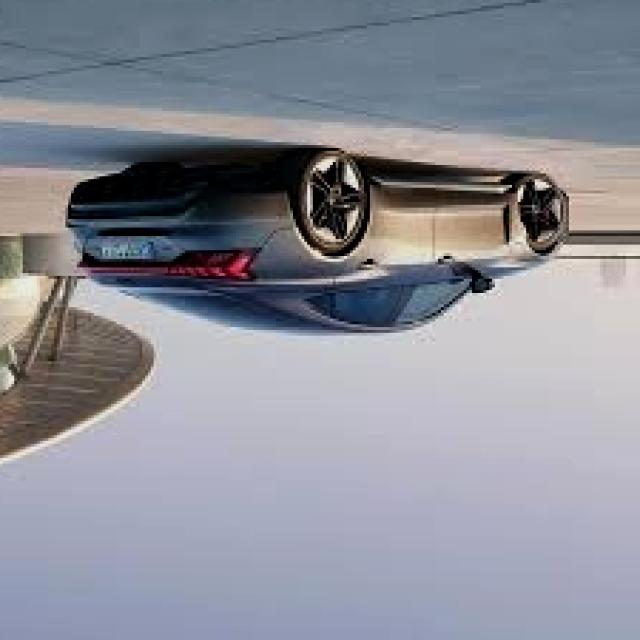black: (66, 146, 565, 332)
